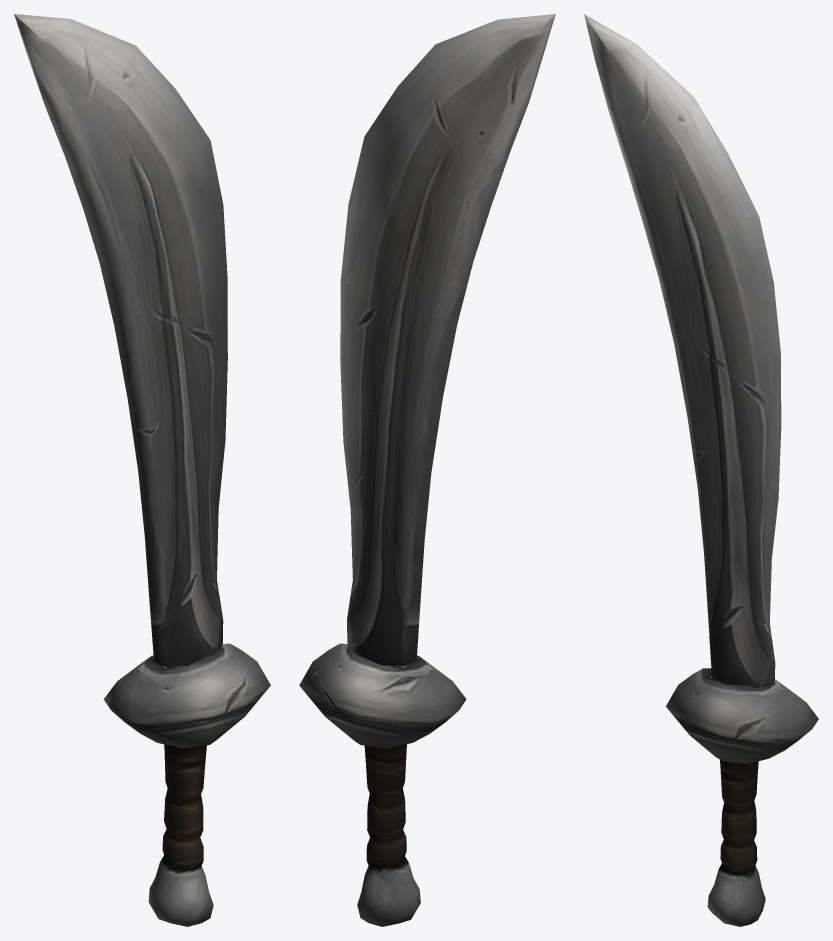
The model's file is W_Sword_5.fbx.
3 views of the same model, side by side, from view 1: azimuth 30°, elevation 25°; view 2: azimuth 150°, elevation 25°; view 3: azimuth 330°, elevation 25° (orthographic). The views are drawn at different scales.
Visible parts, largest first — view 1: W_Sword_5_LOD0; view 2: W_Sword_5_LOD0; view 3: W_Sword_5_LOD0.
Part boxes in pixels (x1=…): W_Sword_5_LOD0: x1=14, y1=14, x2=270, y2=926; W_Sword_5_LOD0: x1=299, y1=14, x2=555, y2=926; W_Sword_5_LOD0: x1=584, y1=14, x2=818, y2=926.
Size of what is drawn, in the model's own units: 0.3852 by 1.4 by 0.1322.
